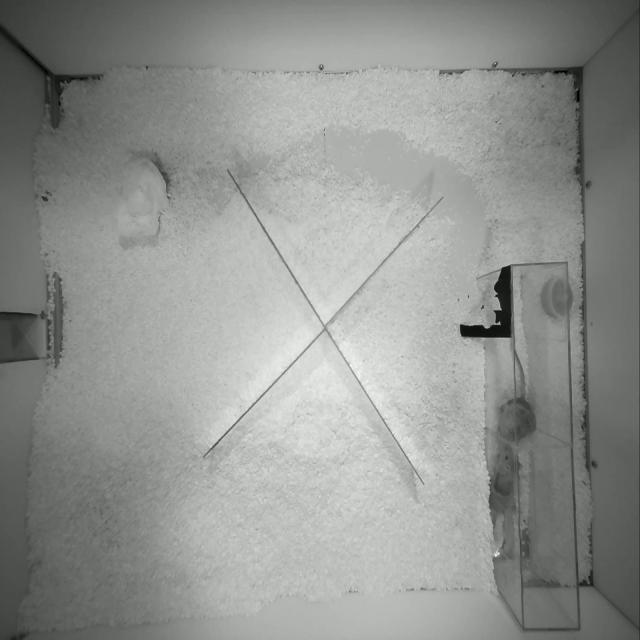adult_front: (490, 442, 514, 512)
pup_h_stripe: (499, 346, 536, 441)
